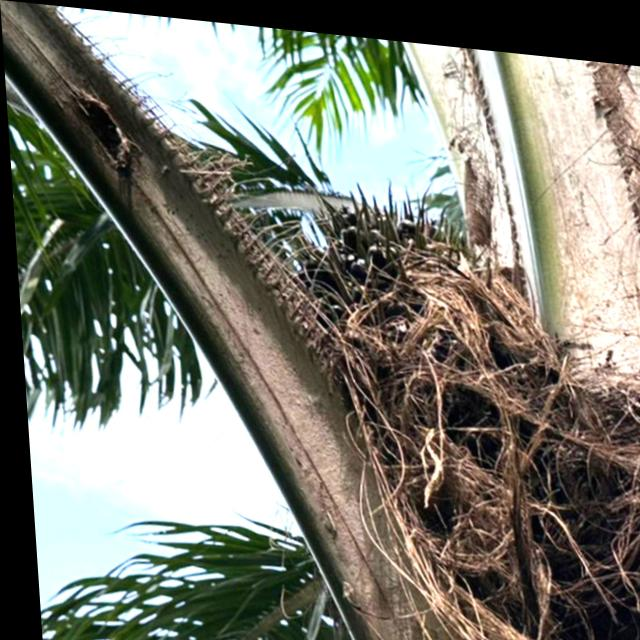unripe: (279, 207, 640, 640)
